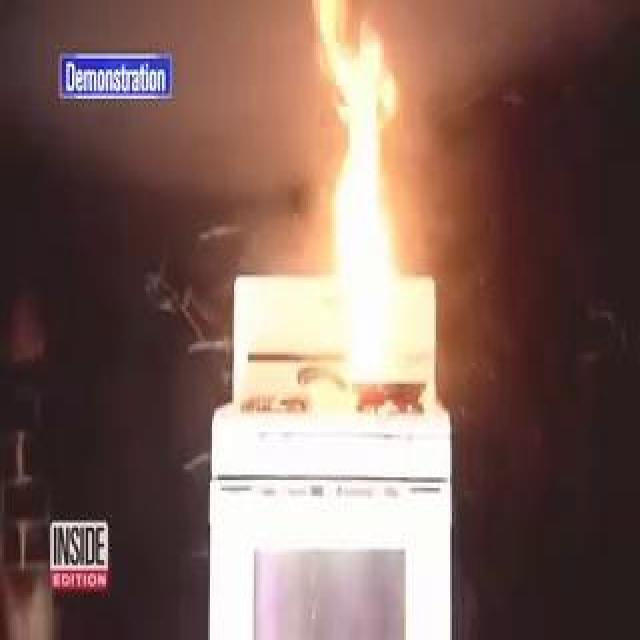Fire: (298, 2, 412, 394)
